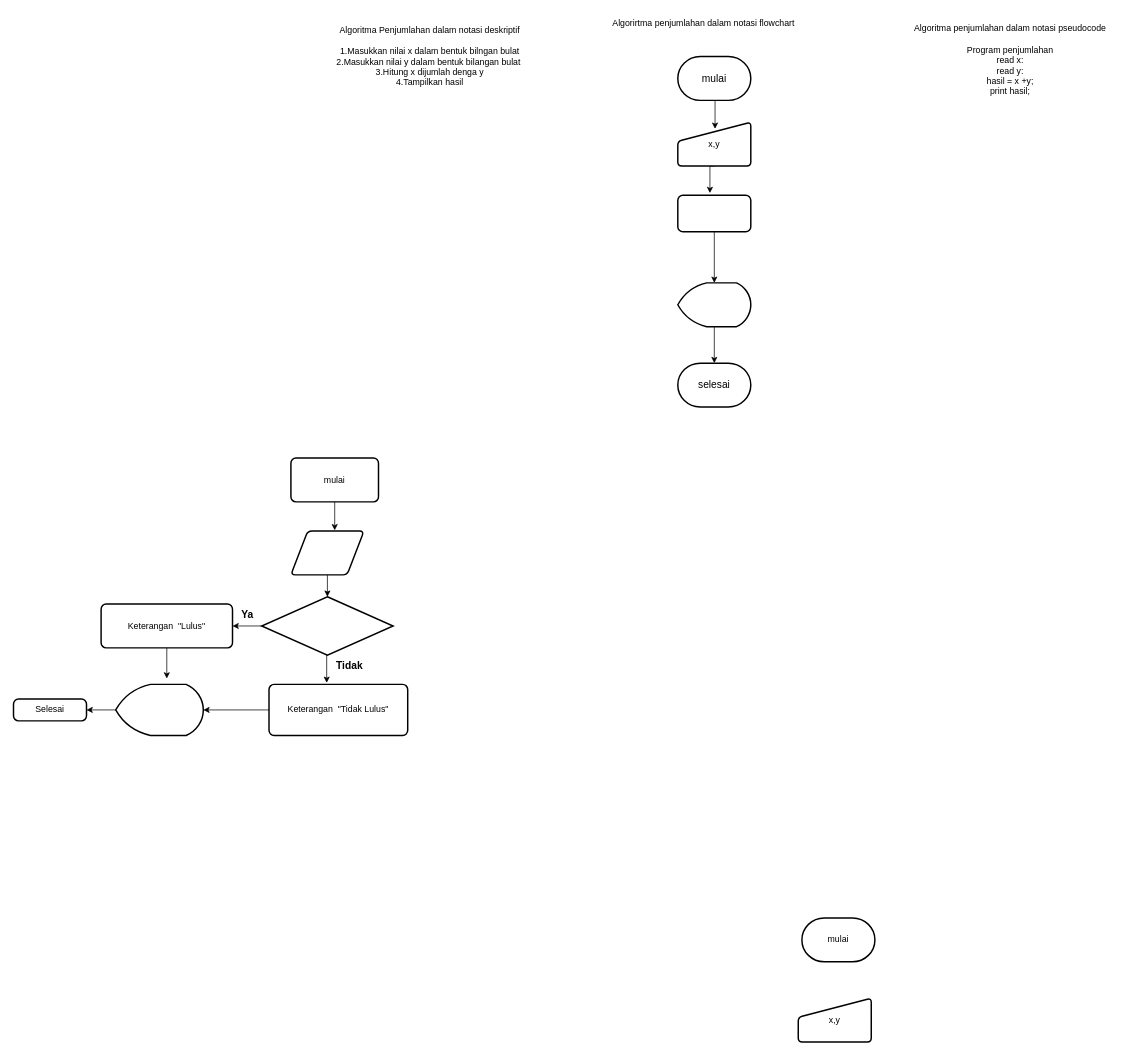
This 1128x1055 diagram has some shape labels left out. The shapes that lost their labels are listed below. From the top down, each one's centre as x and y in pixels, then its label:
point (714, 213): hasi = x + y
point (714, 304): hasil
point (327, 552): Baca Nama,Nilai
point (327, 626): nilai>=60
point (159, 709): Tulis Nama,Keterangan
